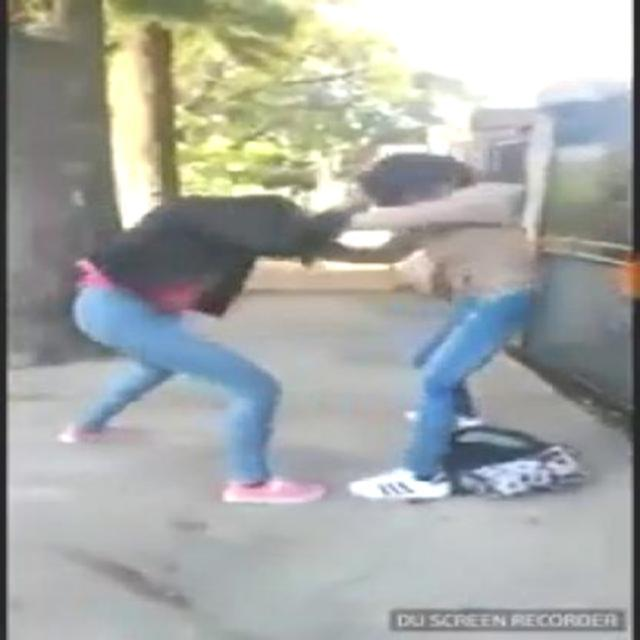fight: (69, 150, 545, 493)
